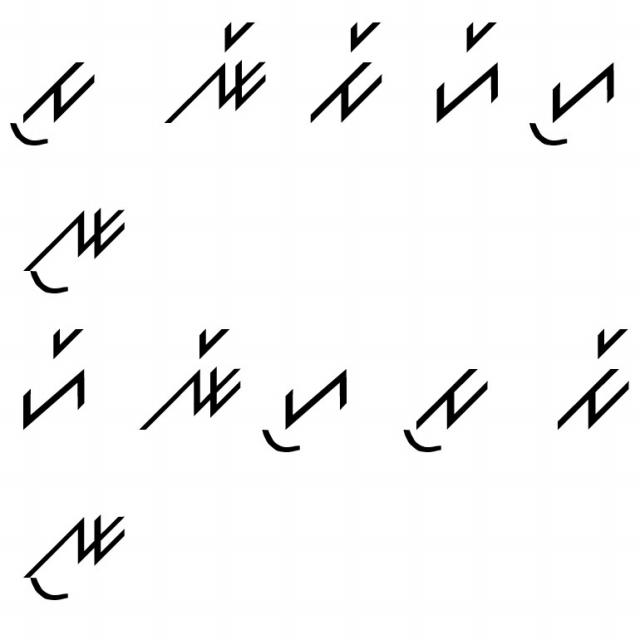har: (426, 14, 509, 134), (13, 322, 99, 432)
haw: (526, 49, 628, 155), (253, 362, 355, 453)
mbar: (545, 320, 637, 438), (303, 8, 391, 123)
mbaw: (384, 357, 497, 458), (8, 54, 103, 157)
ndar: (134, 322, 248, 432), (162, 17, 270, 131)
ndaw: (21, 201, 135, 301), (15, 510, 131, 604)
